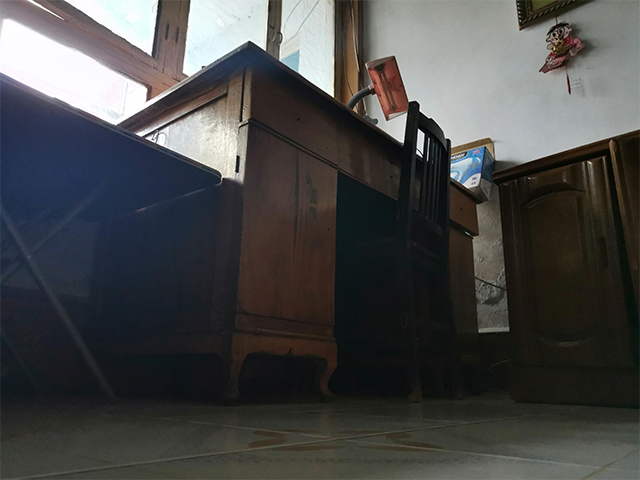cabinet: (487, 127, 640, 411)
stool: (345, 97, 466, 402)
table: (105, 35, 484, 404), (1, 70, 225, 405)
